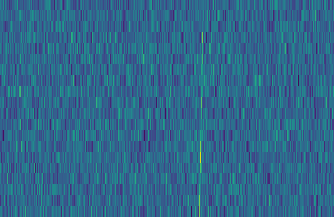signal: (195, 0, 207, 217)
